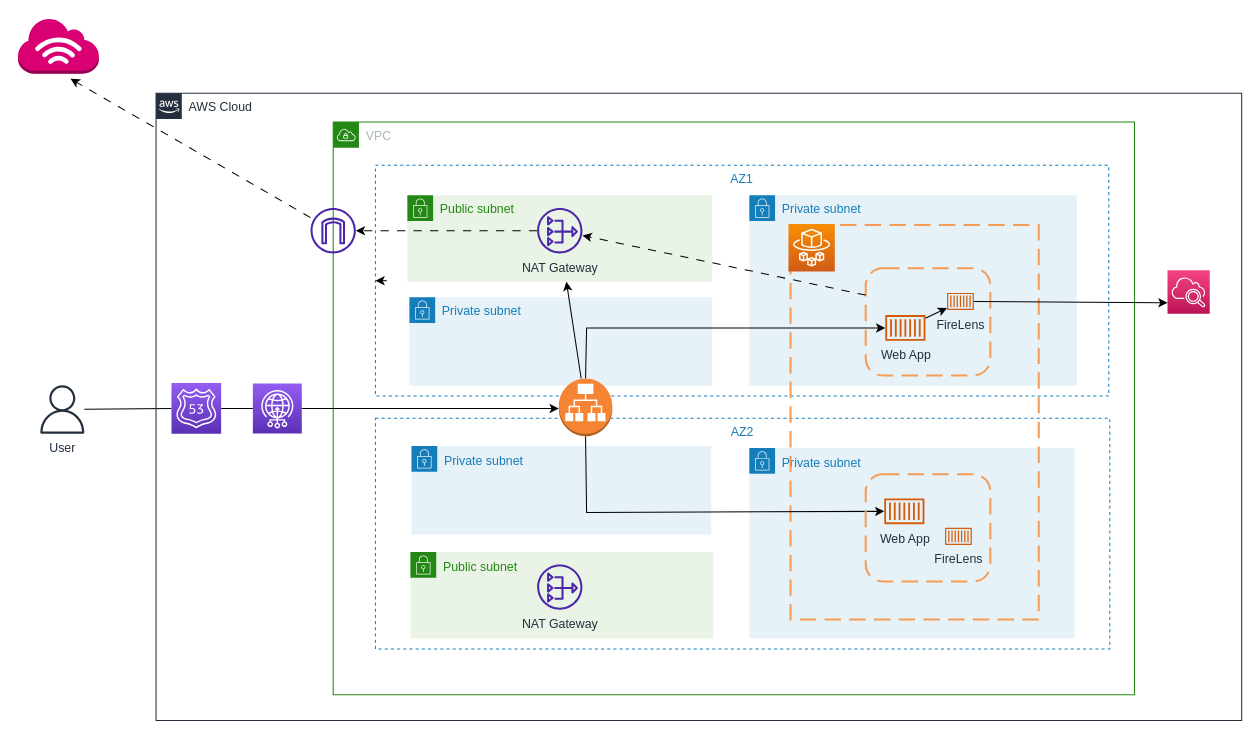
The diagram is 1260 pixels wide and 739 high, and some of its shapes have lost their labels. Here are the shapes that lost their labels. From the top down, the centre of each, then its label:
pixel 332 230: Internet Gateway
pixel 811 247: Fargate Cluster
pixel 1188 291: CloudWatch Logs
pixel 195 408: Route53
pixel 277 407: Global Accelerator
pixel 585 406: ALB
